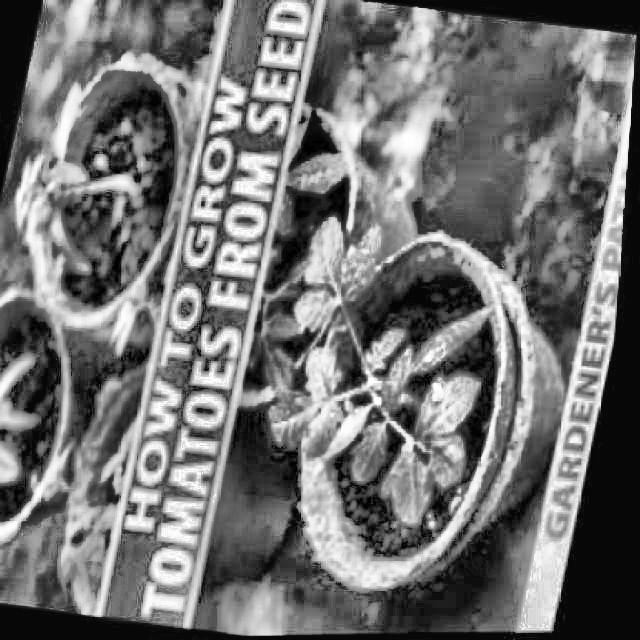plants: (222, 192, 596, 586), (233, 89, 427, 432), (0, 36, 214, 338), (39, 343, 161, 614), (0, 300, 109, 574)
